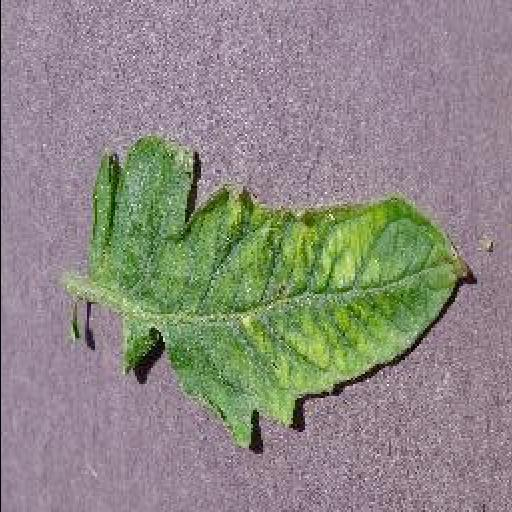Mosaic Virus: (86, 129, 474, 451)
